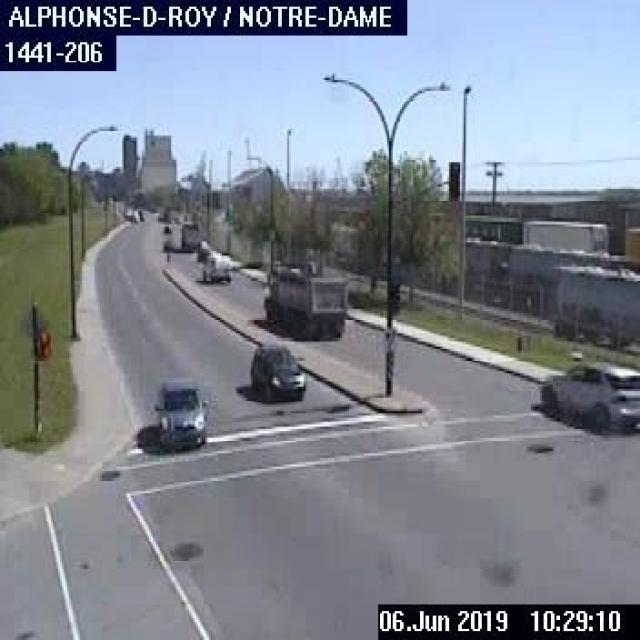vehicle: (538, 360, 638, 429), (260, 260, 347, 336), (156, 376, 208, 446), (249, 342, 306, 398), (200, 249, 231, 280), (178, 222, 198, 247)
